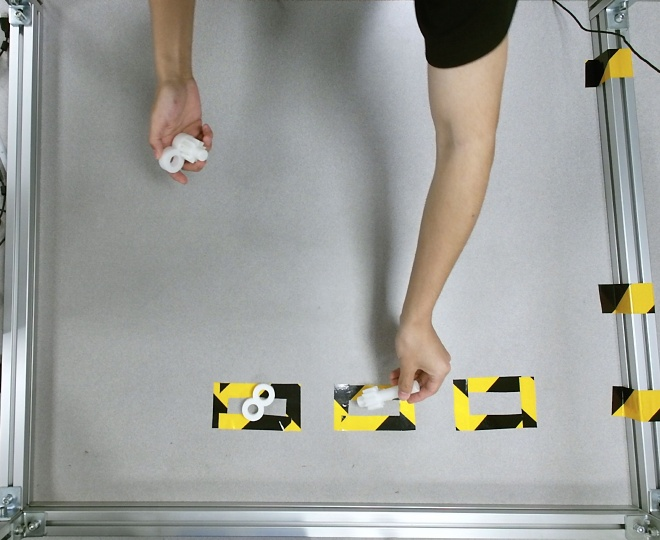stage_2: (160, 133, 207, 172)
